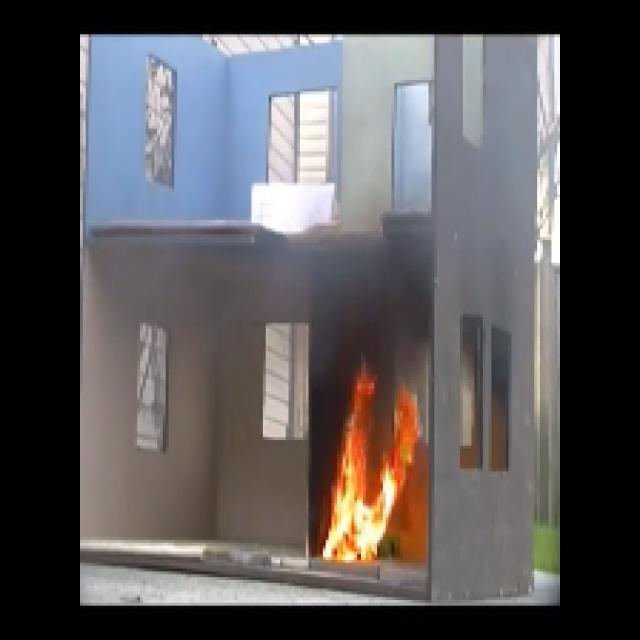fire: (318, 385, 405, 568)
smoke: (322, 249, 420, 329)
